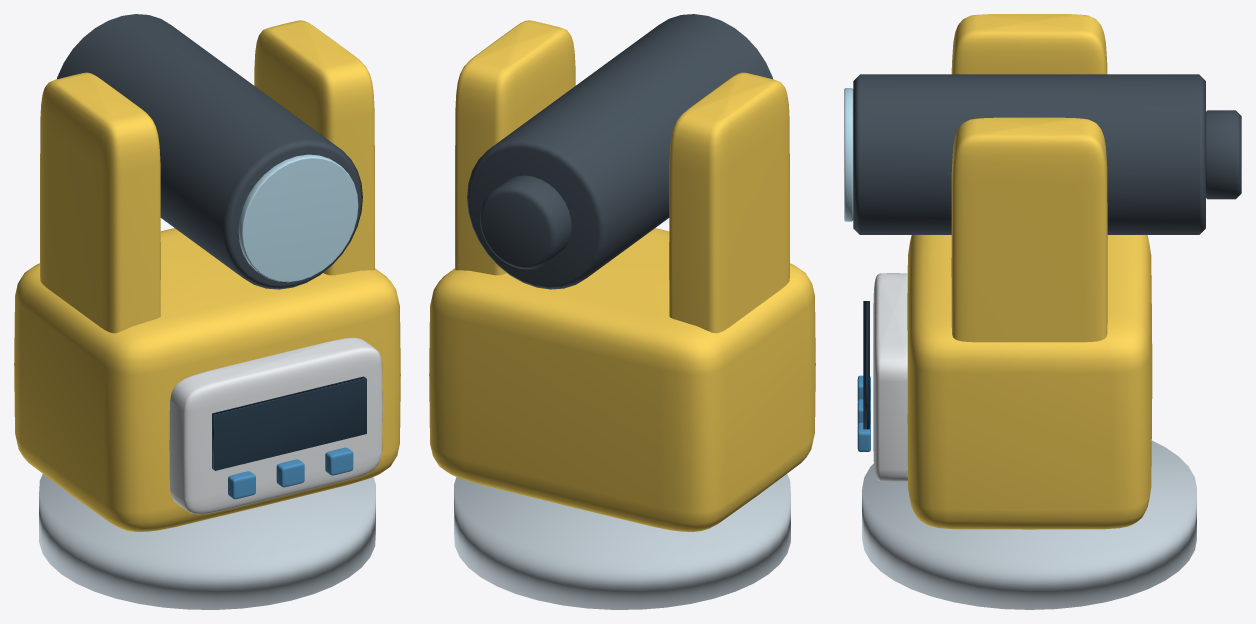
The model's file is survey_instrument.glb.
3 renders of one model, left to right at view 1: azimuth 30°, elevation 25°; view 2: azimuth 150°, elevation 25°; view 3: azimuth 270°, elevation 25°, orthographic.
Parts seen in each view (by area): view 1: Main_Body, Survey_Base, Telescope_Body, Telescope_Support-0.055, Control_Panel, Telescope_Support0.055, Objective_Lens, Survey_Display, Survey_Button0, Survey_Button0.025, Survey_Button-0.025; view 2: Main_Body, Telescope_Body, Survey_Base, Telescope_Support-0.055, Telescope_Support0.055, Eyepiece; view 3: Main_Body, Telescope_Body, Telescope_Support0.055, Survey_Base, Telescope_Support-0.055, Control_Panel, Eyepiece, Objective_Lens, Survey_Display.
Boxes of the visible parts, left/top/right/bottom form: Main_Body: left=14, top=228, right=400, bottom=531; Survey_Base: left=39, top=474, right=375, bottom=609; Telescope_Body: left=57, top=14, right=362, bottom=289; Telescope_Support-0.055: left=40, top=72, right=160, bottom=333; Control_Panel: left=169, top=337, right=382, bottom=514; Telescope_Support0.055: left=254, top=20, right=374, bottom=275; Objective_Lens: left=238, top=154, right=358, bottom=282; Survey_Display: left=212, top=376, right=366, bottom=470; Survey_Button0: left=276, top=459, right=304, bottom=487; Survey_Button0.025: left=325, top=447, right=353, bottom=475; Survey_Button-0.025: left=228, top=471, right=255, bottom=499; Main_Body: left=429, top=228, right=815, bottom=531; Telescope_Body: left=467, top=14, right=772, bottom=289; Survey_Base: left=454, top=474, right=790, bottom=609; Telescope_Support-0.055: left=669, top=72, right=789, bottom=333; Telescope_Support0.055: left=455, top=20, right=575, bottom=275; Eyepiece: left=480, top=175, right=571, bottom=269; Main_Body: left=907, top=235, right=1152, bottom=529; Telescope_Body: left=853, top=74, right=1205, bottom=234; Telescope_Support0.055: left=951, top=117, right=1107, bottom=342; Survey_Base: left=862, top=440, right=1196, bottom=609; Telescope_Support-0.055: left=951, top=14, right=1107, bottom=74; Control_Panel: left=873, top=273, right=907, bottom=481; Eyepiece: left=1206, top=110, right=1241, bottom=199; Objective_Lens: left=844, top=88, right=853, bottom=221; Survey_Display: left=863, top=301, right=869, bottom=429.
Bounding box in the file's own units: 0.15 × 0.23 × 0.178.
